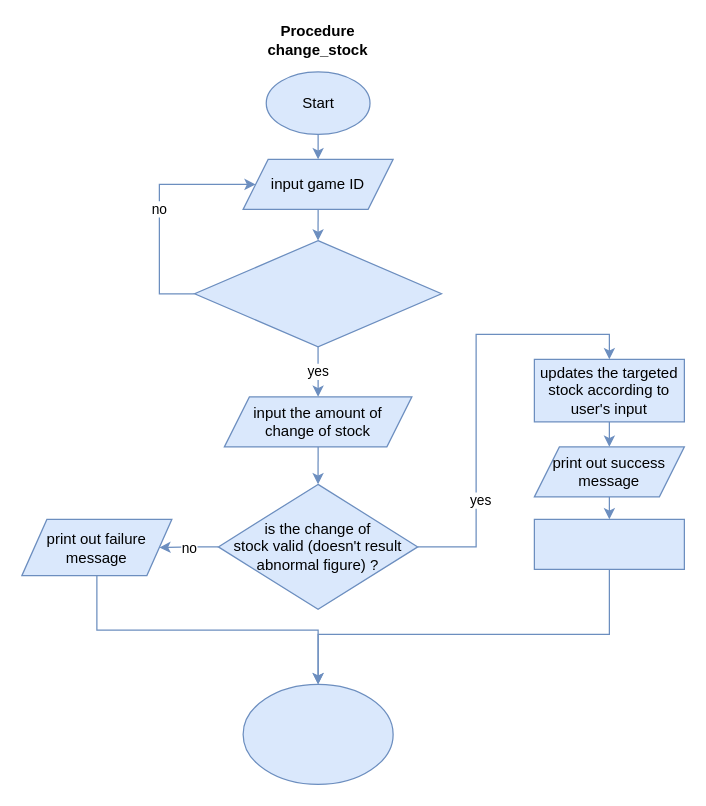
Some shapes in this 706 by 806 pixel diagram are drawn without their labels. Each missing label, with the centre of its shape:
end: point 317,733
return the updated data: point 608,543
the ID exists in the data from parameter?: point 317,293
